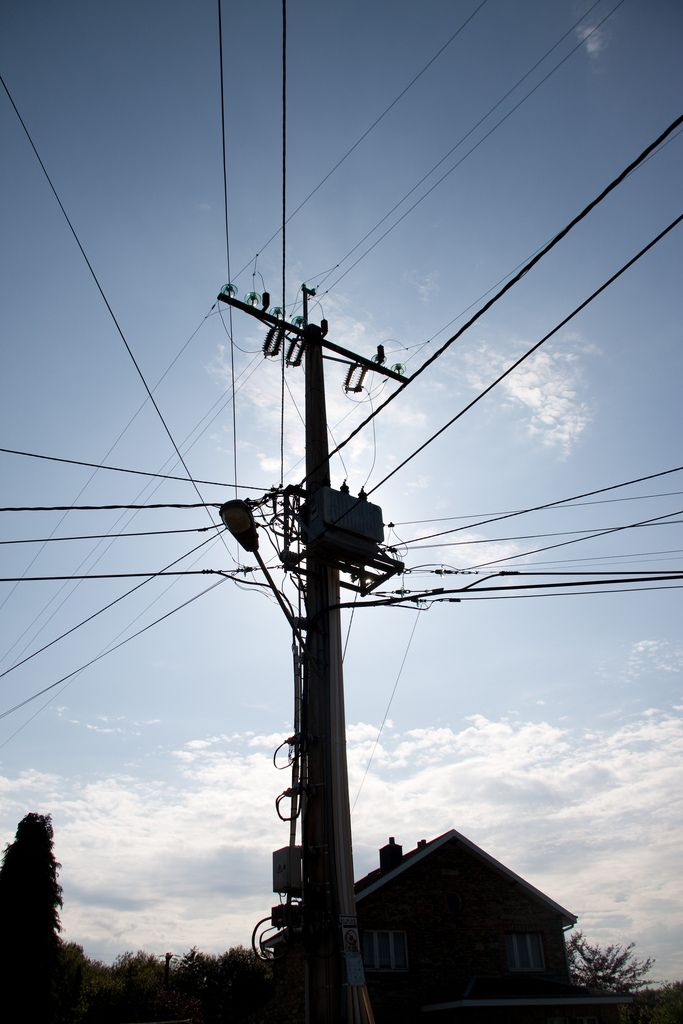utility_pole: (195, 245, 421, 659)
